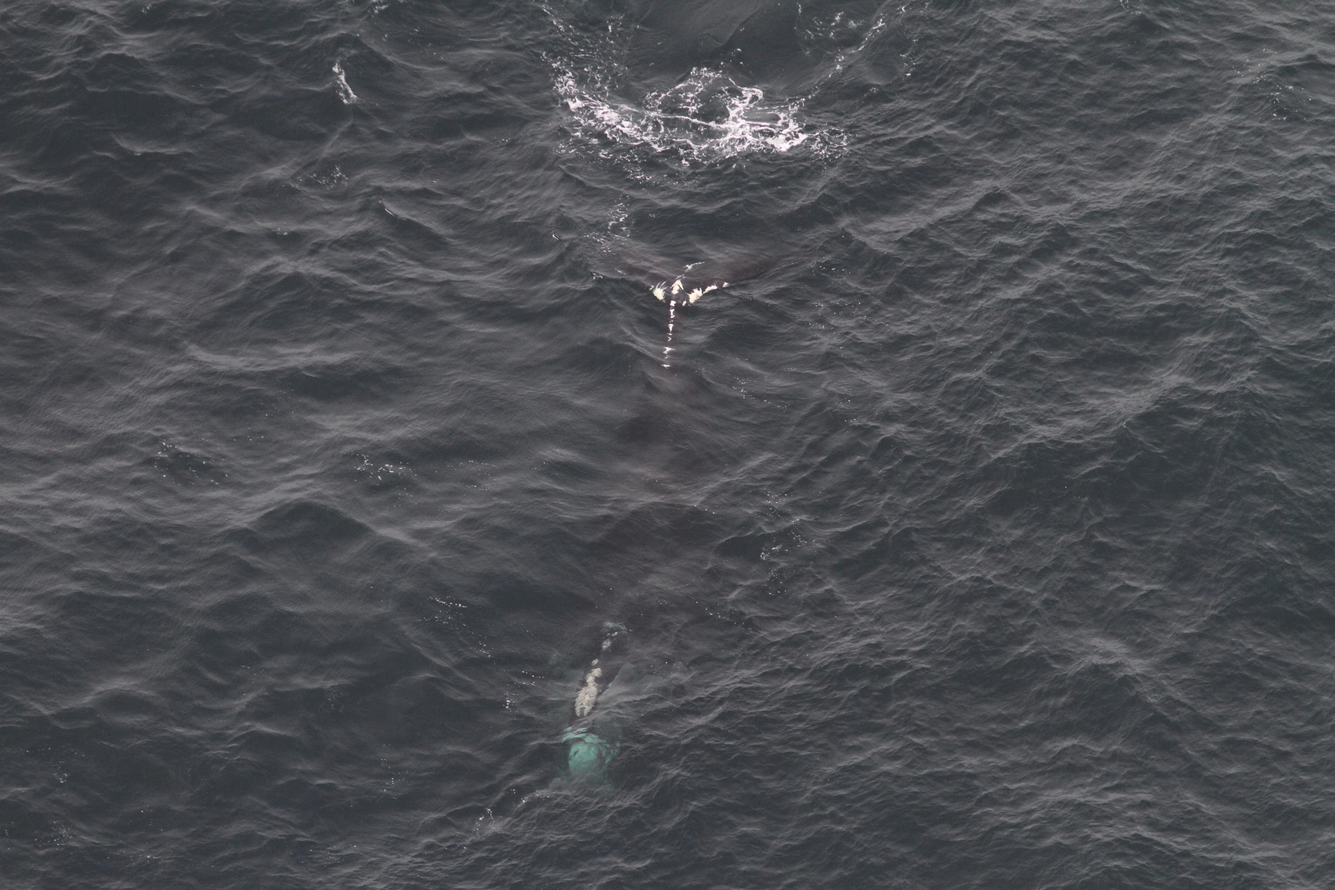whale: (508, 229, 820, 803)
